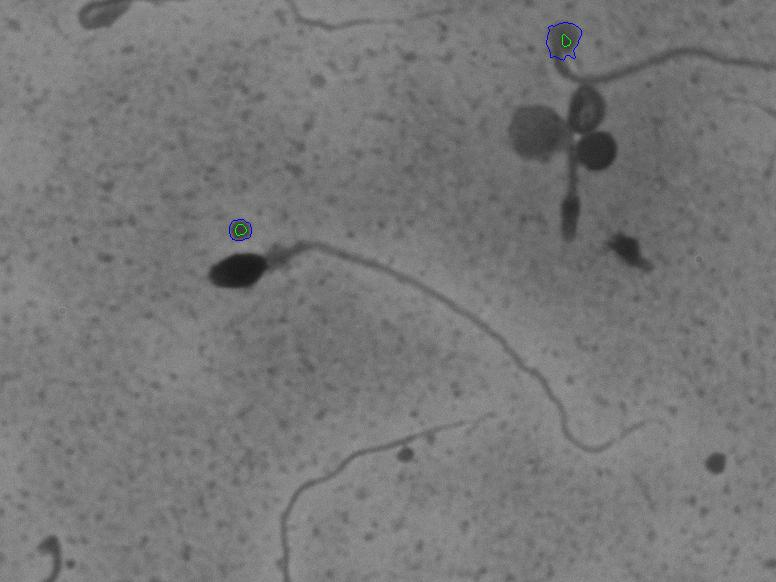Abnormal: (200, 223, 682, 472)
